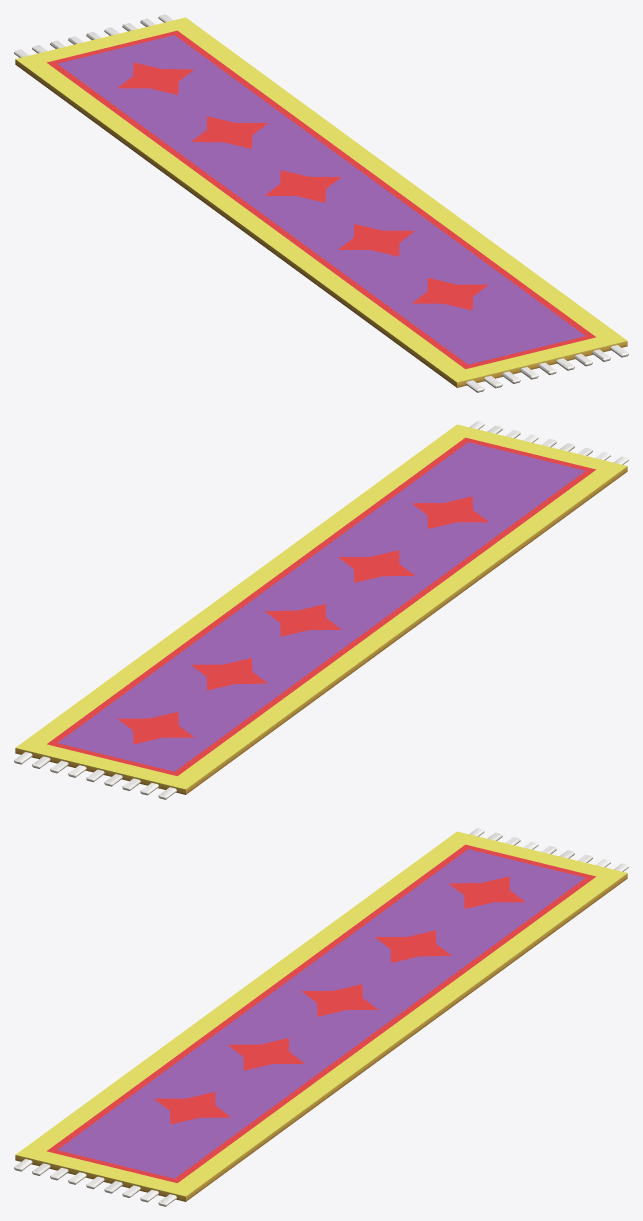
File: rug_runner.glb
3 renders of one model, top to bottom at view 1: azimuth 30°, elevation 25°; view 2: azimuth 150°, elevation 25°; view 3: azimuth 330°, elevation 25°, orthographic.
Parts seen in each view (by area): view 1: Item; view 2: Item; view 3: Item.
Boxes of the visible parts, x1=… form: Item: x1=14, y1=14, x2=628, y2=392; Item: x1=14, y1=421, x2=628, y2=799; Item: x1=14, y1=828, x2=628, y2=1206.
Size of the model in its own units: 1.61 by 0.05 by 7.56.
1 material, 1 textured.
